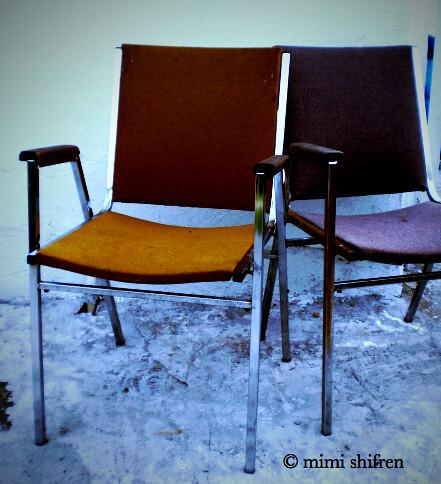chair: (19, 43, 292, 474), (270, 38, 441, 436)
